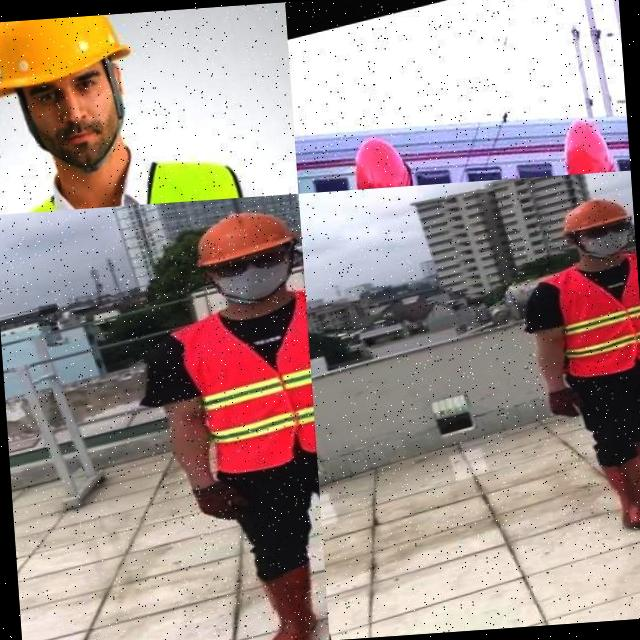boots: (246, 560, 325, 640), (597, 452, 640, 534), (632, 436, 640, 501)
helmet: (0, 12, 137, 105), (182, 197, 302, 272), (343, 131, 421, 190), (552, 190, 632, 240), (552, 115, 618, 175)
vest: (162, 283, 318, 483), (0, 133, 298, 214), (540, 250, 640, 385)
